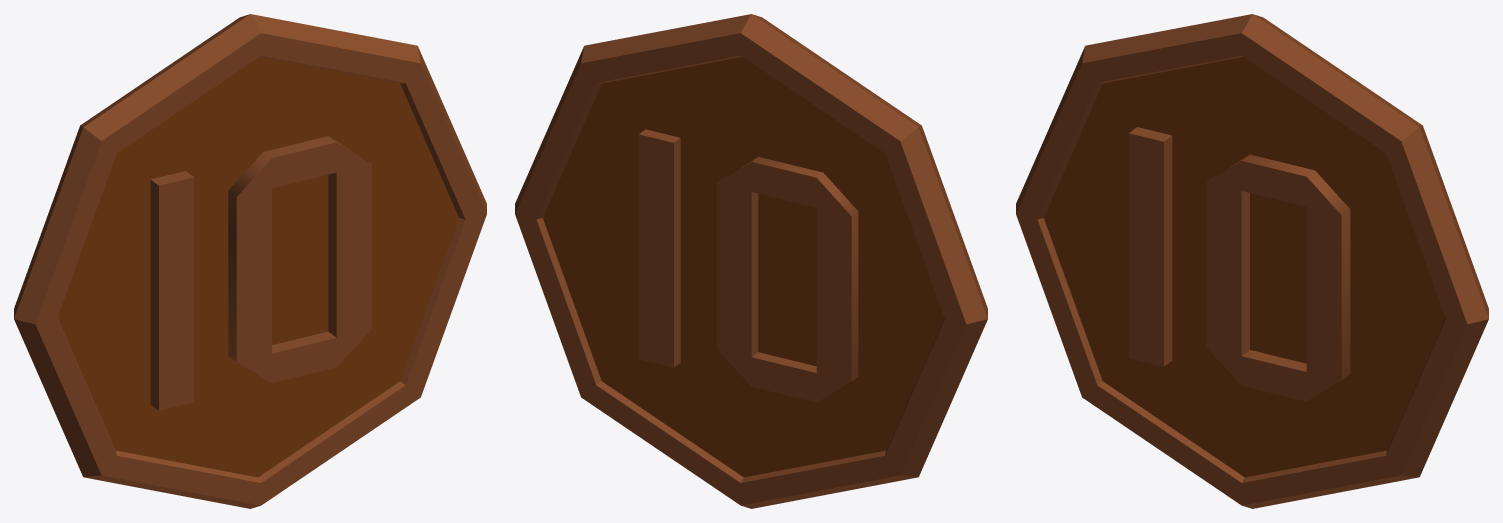
File: coin.fbx
3 renders of one model, left to right at view 1: azimuth 30°, elevation 25°; view 2: azimuth 150°, elevation 25°; view 3: azimuth 330°, elevation 25°, orthographic.
Visible parts, largest first — view 1: pCylinder2; view 2: pCylinder2; view 3: pCylinder2.
Part boxes in pixels (x1=…): pCylinder2: x1=14, y1=14, x2=486, y2=508; pCylinder2: x1=515, y1=14, x2=987, y2=508; pCylinder2: x1=1016, y1=14, x2=1488, y2=508.
Bounding box in the file's own units: 2.2 × 2.2 × 0.2464.
